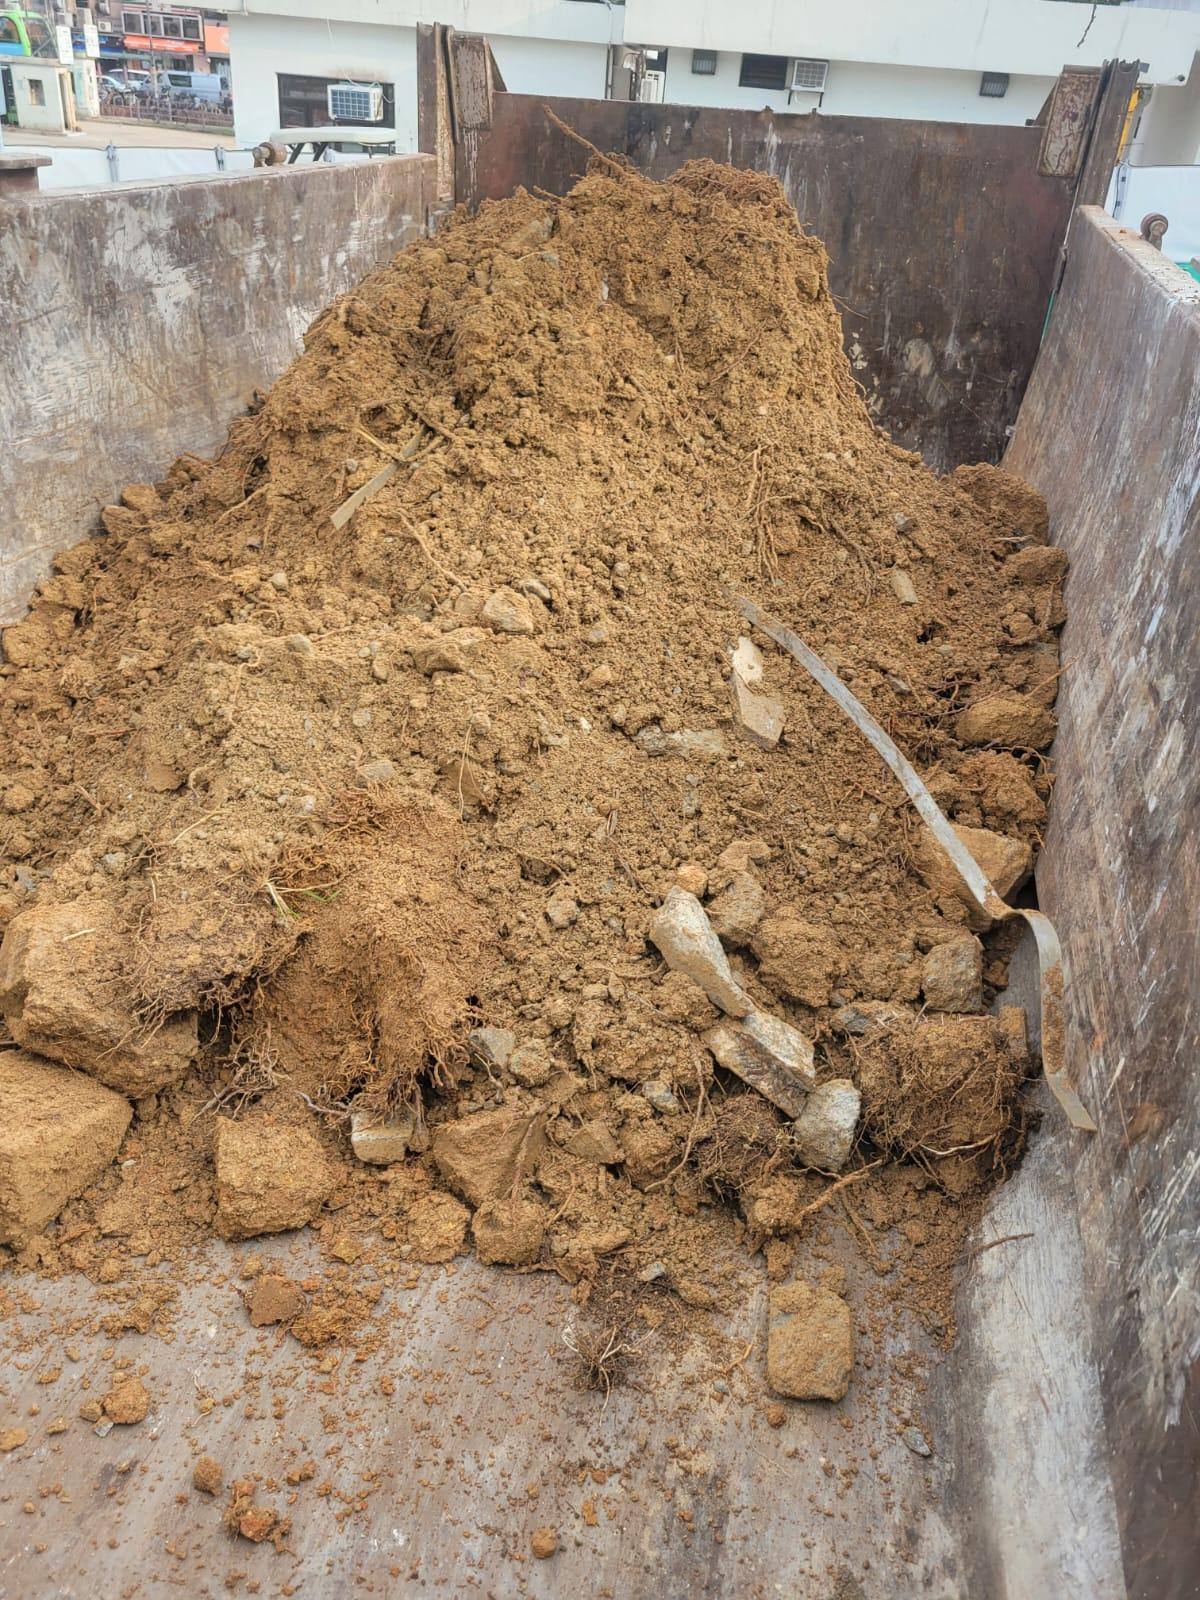dry: (0, 185, 1038, 1240)
